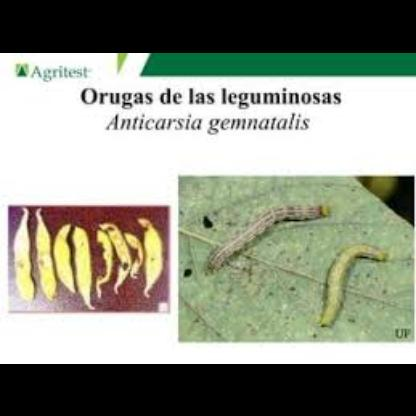oruga: (202, 200, 332, 286), (312, 239, 390, 325)
